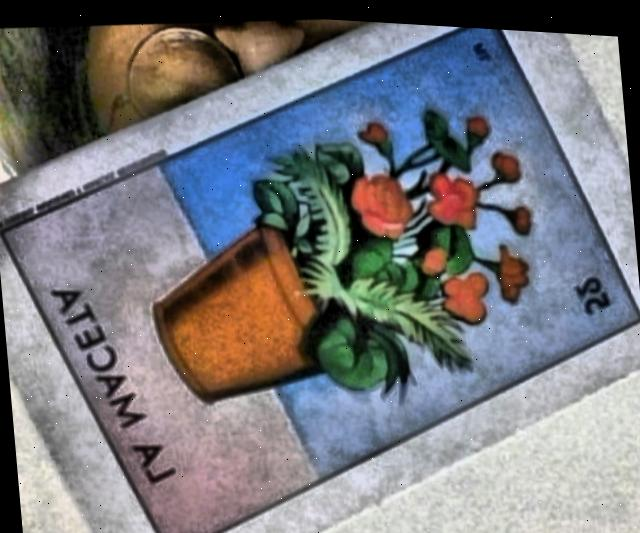La Maceta: (2, 21, 640, 533)
